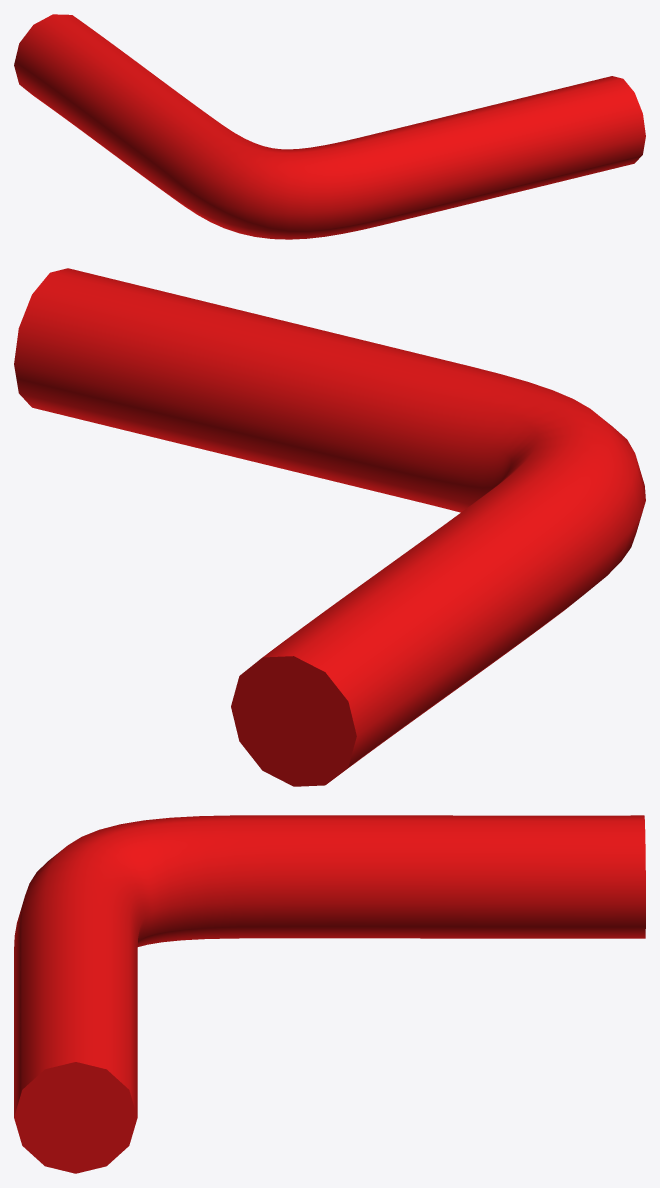
The model's file is grable_corner.fbx.
The picture shows the model from 3 angles, top to bottom: view 1: azimuth 30°, elevation 25°; view 2: azimuth 150°, elevation 25°; view 3: azimuth 270°, elevation 25°; orthographic projection. The views are drawn at different scales.
Parts seen in each view (by area): view 1: grable_corner; view 2: grable_corner; view 3: grable_corner.
Part boxes in pixels (x1,y1,x2,y2): grable_corner: (14, 14, 645, 239); grable_corner: (14, 268, 645, 786); grable_corner: (14, 815, 645, 1173).
Size of the model in its own units: 15.54 by 3.04 by 15.53.
